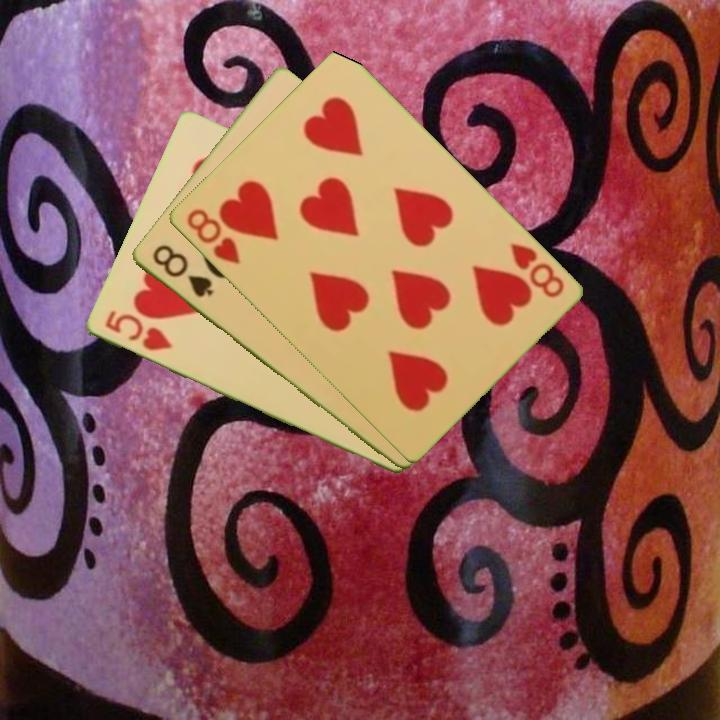5h: (101, 307, 174, 354)
8h: (182, 205, 243, 268), (506, 239, 567, 301)
8s: (148, 241, 216, 301)
